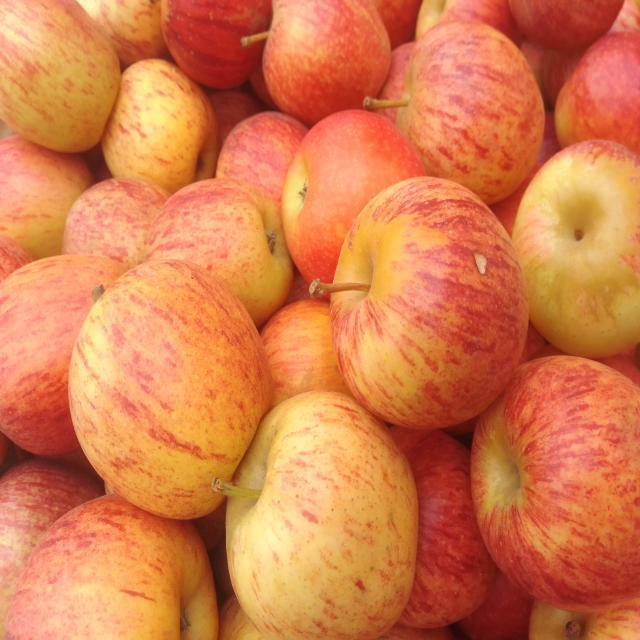Fresh Apple: (70, 257, 268, 520), (232, 395, 426, 640), (332, 175, 518, 417), (483, 356, 640, 603), (5, 490, 222, 640), (508, 138, 640, 350), (385, 20, 547, 190), (1, 0, 121, 156), (258, 0, 404, 120), (108, 57, 215, 183), (218, 103, 295, 227)
